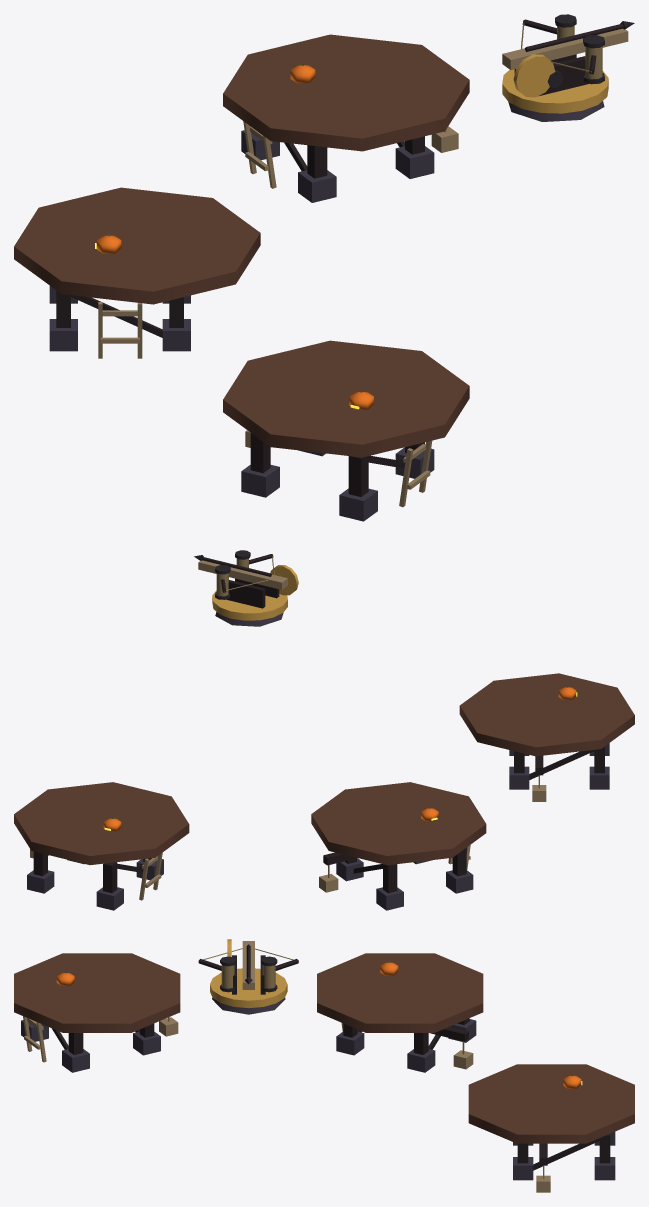
The model's file is base_builder_weapon_2.glb.
The picture shows the model from 3 angles, top to bottom: view 1: azimuth 30°, elevation 25°; view 2: azimuth 150°, elevation 25°; view 3: azimuth 270°, elevation 25°; orthographic projection. The views are drawn at different scales.
Parts seen in each view (by area): view 1: tower_slot_3_plate, tower_slot_2_plate, tower_slot_1_plate, weapon_mount_gear, stock, gear_big, tower_slot_3_foot_2, tower_slot_2_foot_0, tower_slot_2_foot_1, tower_slot_3_foot_3, frame_cheek_l, tower_slot_1_foot_1 (+3 smaller); view 2: tower_slot_1_plate, tower_slot_2_plate, tower_slot_3_plate, weapon_mount_gear, stock, frame_cheek_r, tower_slot_1_foot_1, tower_slot_3_foot_1, tower_slot_1_foot_0, tower_slot_3_foot_0; view 3: tower_slot_1_plate, tower_slot_2_plate, tower_slot_3_plate, weapon_mount_gear, tower_slot_1_foot_3, tower_slot_1_foot_2, tower_slot_2_foot_2, tower_slot_2_foot_3, stock, tower_slot_3_foot_0, tower_slot_3_foot_2, weapon_mount (+1 smaller).
Part boxes in pixels (x1,y1,x2,y2): tower_slot_3_plate: (223,34,469,151); tower_slot_2_plate: (223,340,469,457); tower_slot_1_plate: (14,187,260,304); weapon_mount_gear: (502,69,608,113); stock: (502,28,628,69); gear_big: (513,54,555,97); tower_slot_3_foot_2: (395,146,434,178); tower_slot_2_foot_0: (241,465,279,497); tower_slot_2_foot_1: (339,488,377,521); tower_slot_3_foot_3: (298,170,336,202); frame_cheek_l: (538,56,589,96); tower_slot_1_foot_1: (49,319,77,351); tower_slot_1_plate: (311,782,486,865); tower_slot_2_plate: (459,673,634,756); tower_slot_3_plate: (14,782,189,865); weapon_mount_gear: (212,590,287,620); stock: (198,560,287,589); frame_cheek_r: (226,580,265,608); tower_slot_1_foot_1: (446,870,473,893); tower_slot_3_foot_1: (96,887,123,910); tower_slot_1_foot_0: (376,887,403,910); tower_slot_3_foot_0: (27,870,54,893); tower_slot_1_plate: (317,953,483,1032); tower_slot_2_plate: (14,953,180,1032); tower_slot_3_plate: (468,1064,634,1143); weapon_mount_gear: (210,968,287,1008); tower_slot_1_foot_3: (336,1031,364,1055); tower_slot_1_foot_2: (407,1049,435,1072); tower_slot_2_foot_2: (133,1031,160,1055); tower_slot_2_foot_3: (62,1049,89,1072); stock: (242,941,254,989); tower_slot_3_foot_0: (594,1157,615,1180); tower_slot_3_foot_2: (513,1157,533,1180); weapon_mount: (212,997,285,1014).
Bounding box in the file's own units: 1.05 × 0.559 × 1.52.
